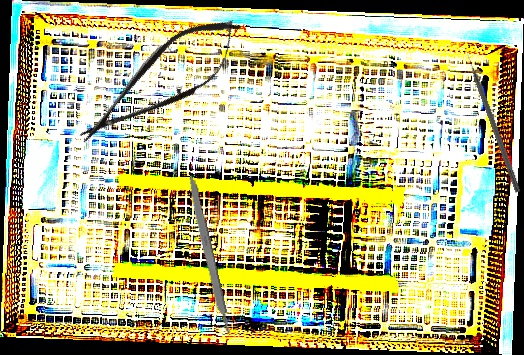Hook Surgical: (463, 47, 523, 194)
Micro Scissor: (63, 0, 258, 164)
Scalpel Handle: (184, 172, 232, 335)
